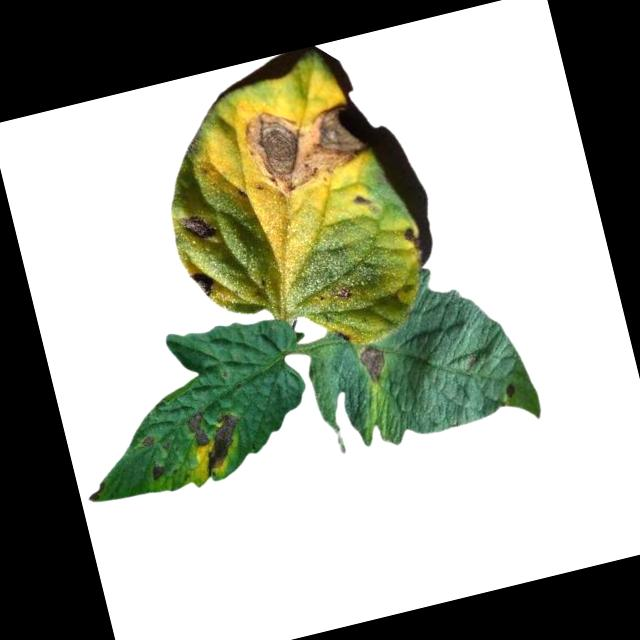Early_blight: (239, 89, 375, 200), (192, 409, 251, 480), (357, 344, 390, 386), (178, 212, 218, 246), (185, 411, 211, 451), (188, 269, 217, 301), (401, 227, 422, 256), (331, 282, 352, 303), (146, 463, 166, 483), (350, 192, 371, 209), (137, 436, 154, 451), (503, 383, 517, 399)
